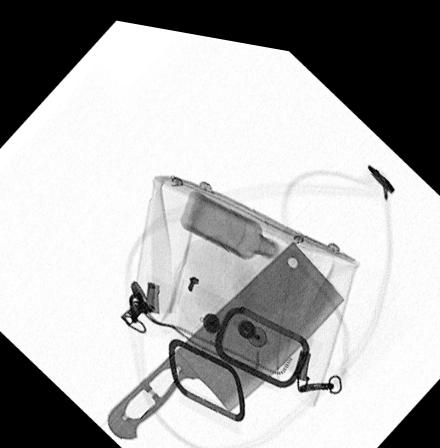Knife: (106, 227, 347, 436)
